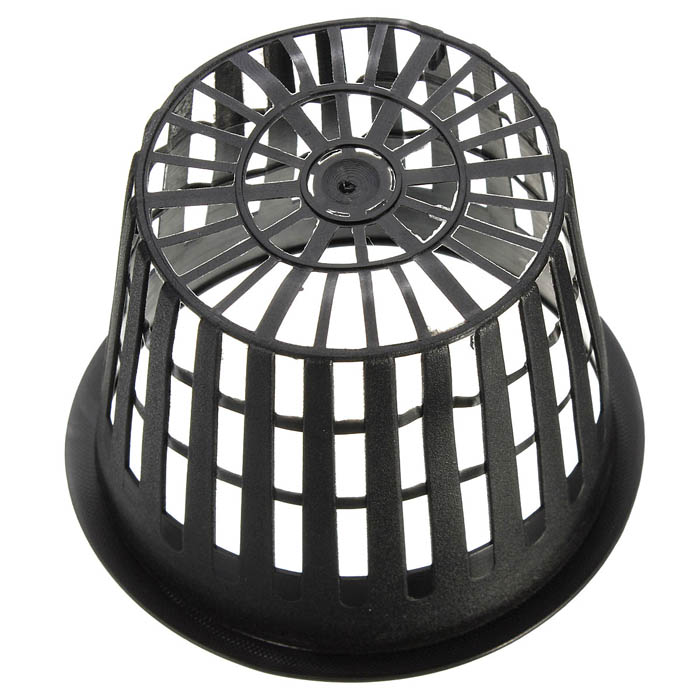basket: (68, 6, 691, 673)
